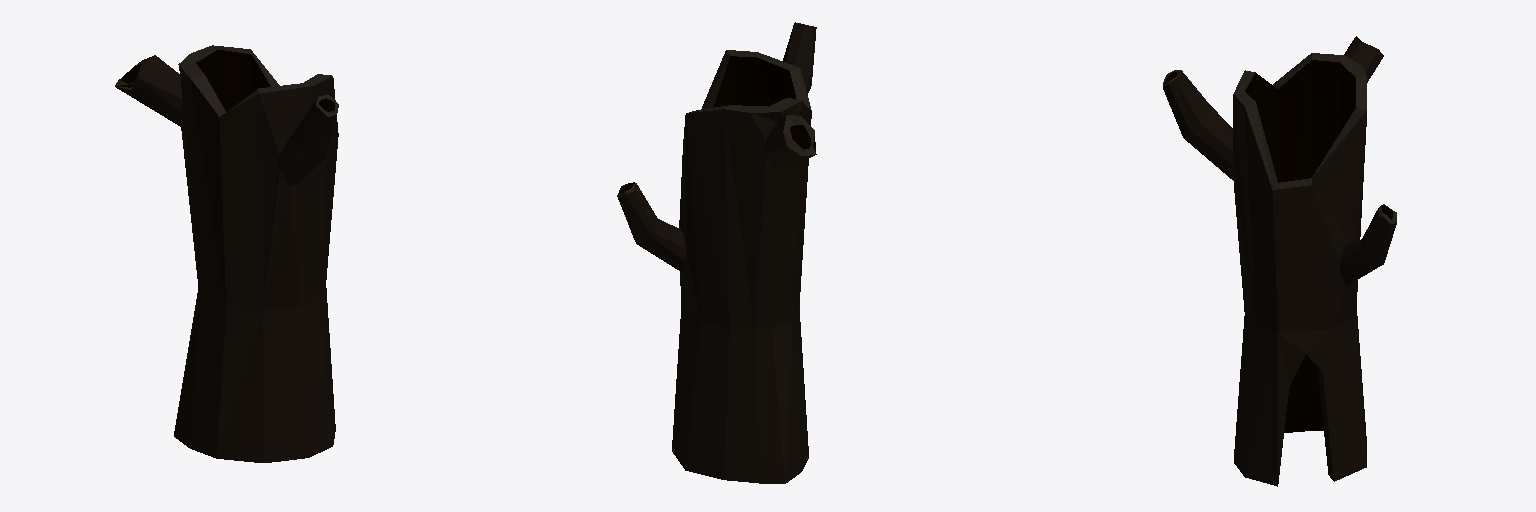
File: hallow_tree.obj
3 views of the same model, side by side, from view 1: azimuth 30°, elevation 25°; view 2: azimuth 150°, elevation 25°; view 3: azimuth 270°, elevation 25° (orthographic).
Size of the model in its own units: 118 by 228 by 126.